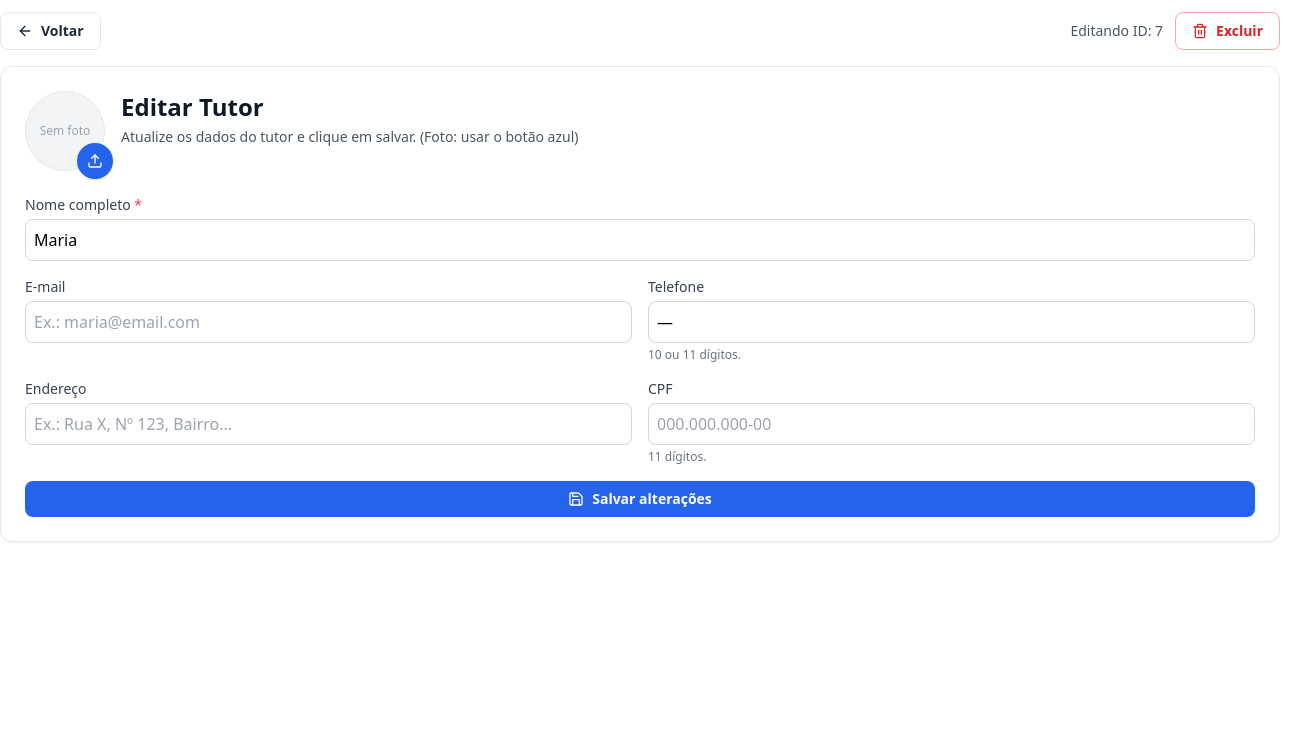
Test: TutorEdit › valida formulário e impede submit quando nome está vazio
Expected: the heading "Editar Tutor" is shown, [121,90,264,123]
Clear the field with placeholder "Ex.: Maria do Carmo Silva" below "Nome completo" at (640,240), box [25,219,1255,261]
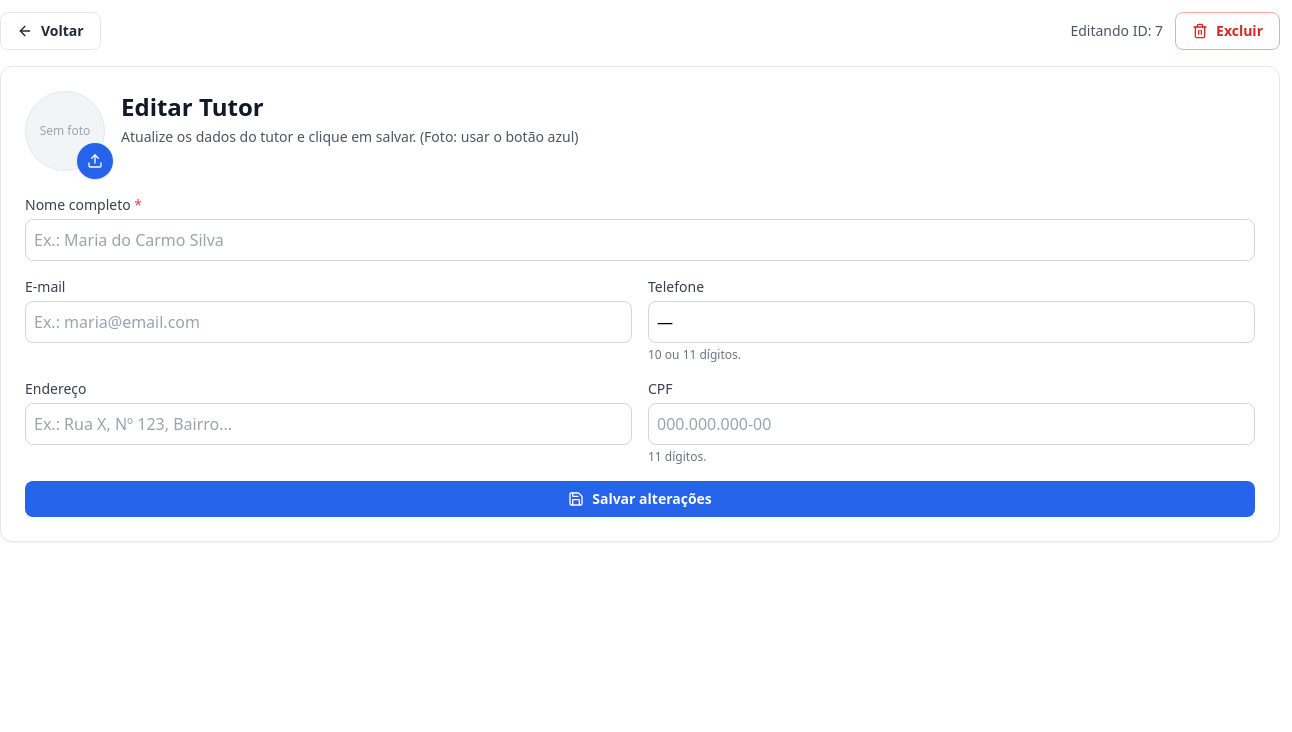
Click the button "Salvar alterações" at (640,499), box [25,481,1255,517]
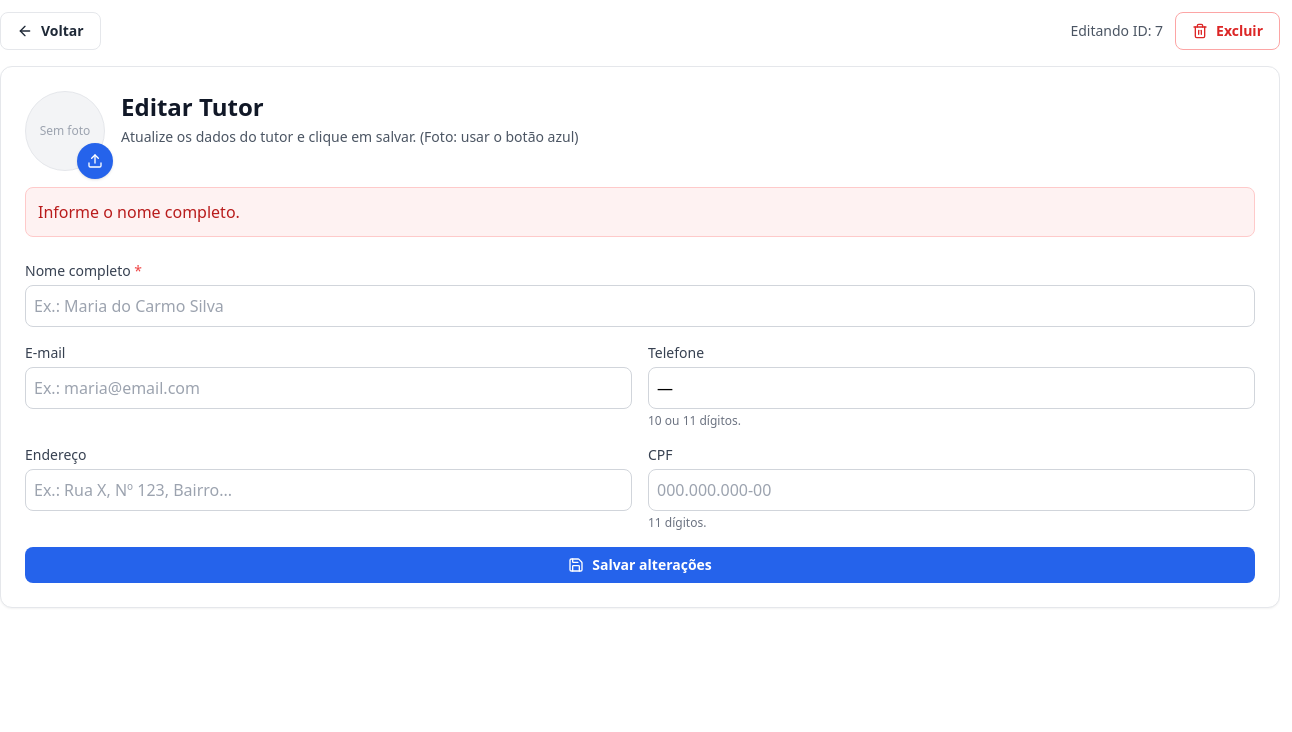
Expected: the text "Informe o nome completo." is shown, [25,187,1255,237]
